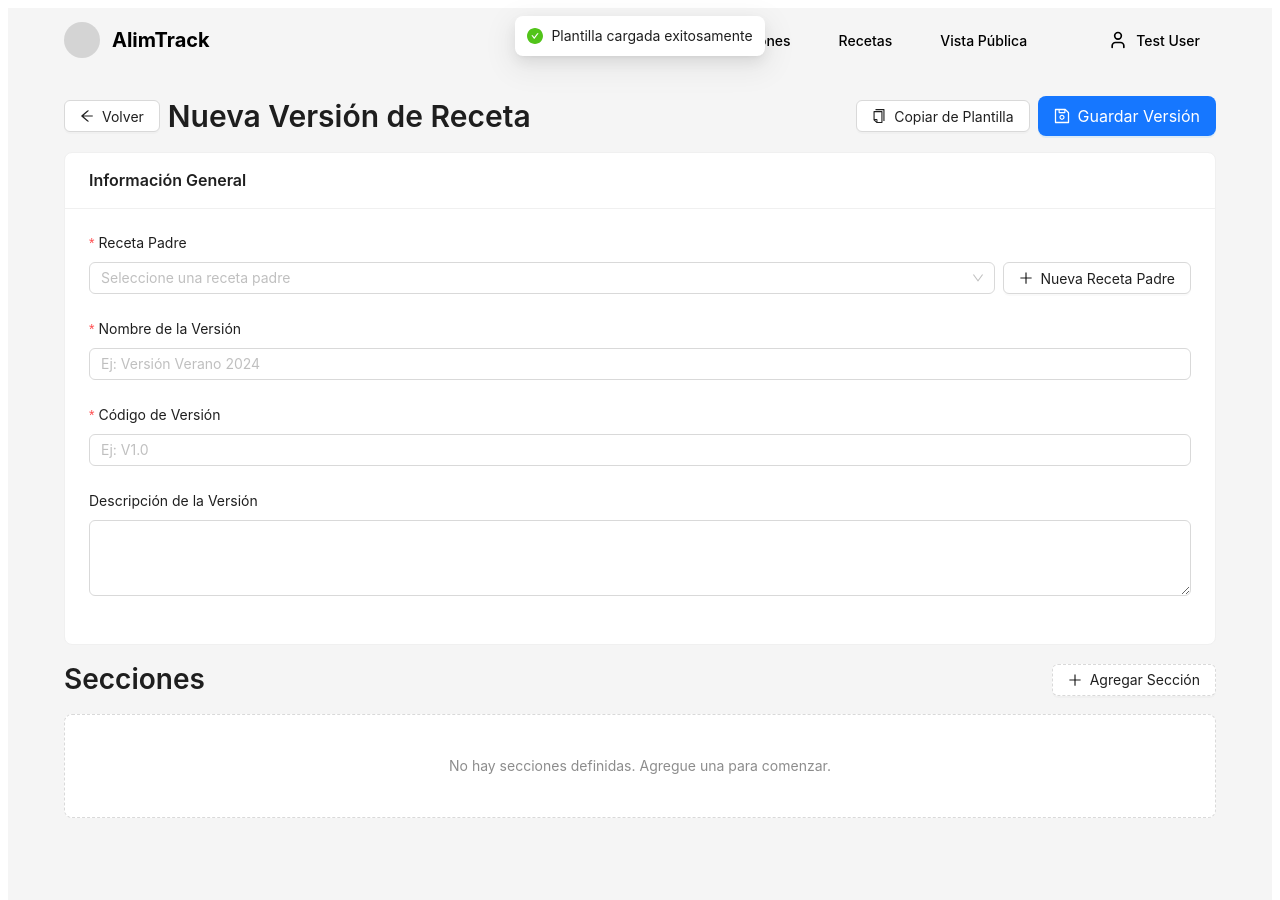
it: RecipeBuilderPage - Integración y Flujos › Permite duplicar una sección
// Agregar una sección
Click the button "Agregar Sección": [1134, 680] box [1052,664,1216,696]
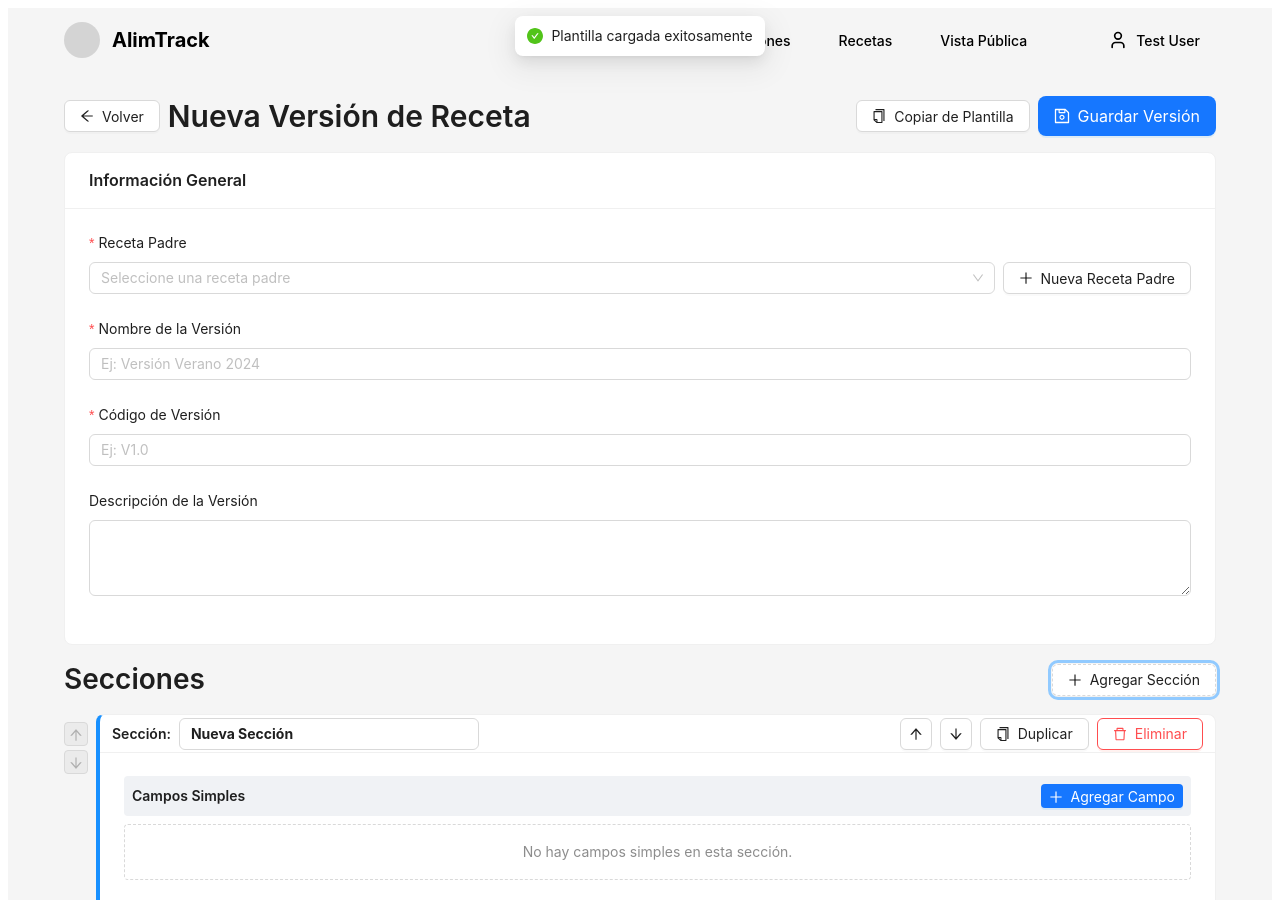
// Escribir nombre en la sección
Replace the text in the field with placeholder "Ingrese el título de la sección" with "Sección Original": [329, 734] box [179,718,479,750]
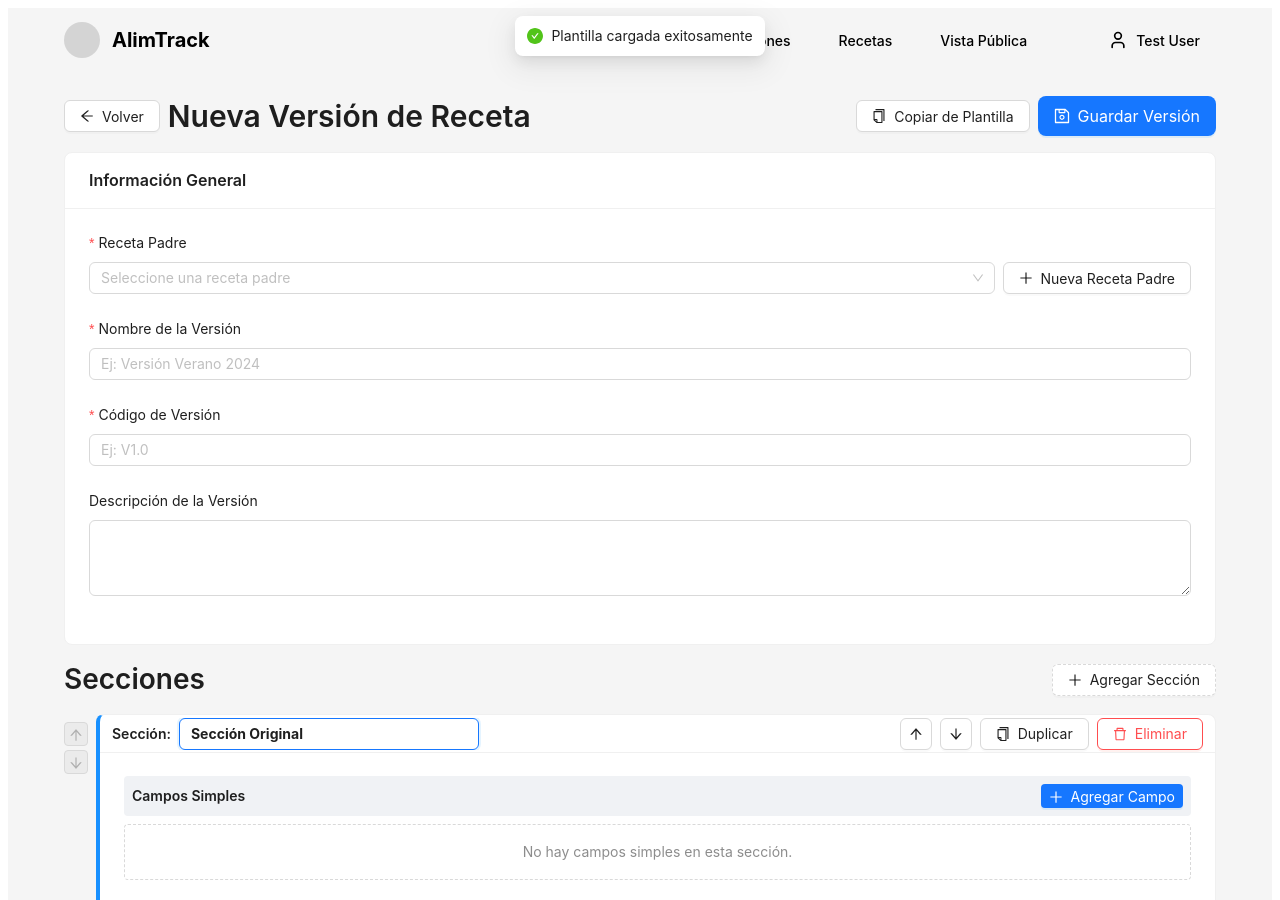
Click the button "Duplicar": [1034, 734] box [980,718,1089,750]
(page scrolled)
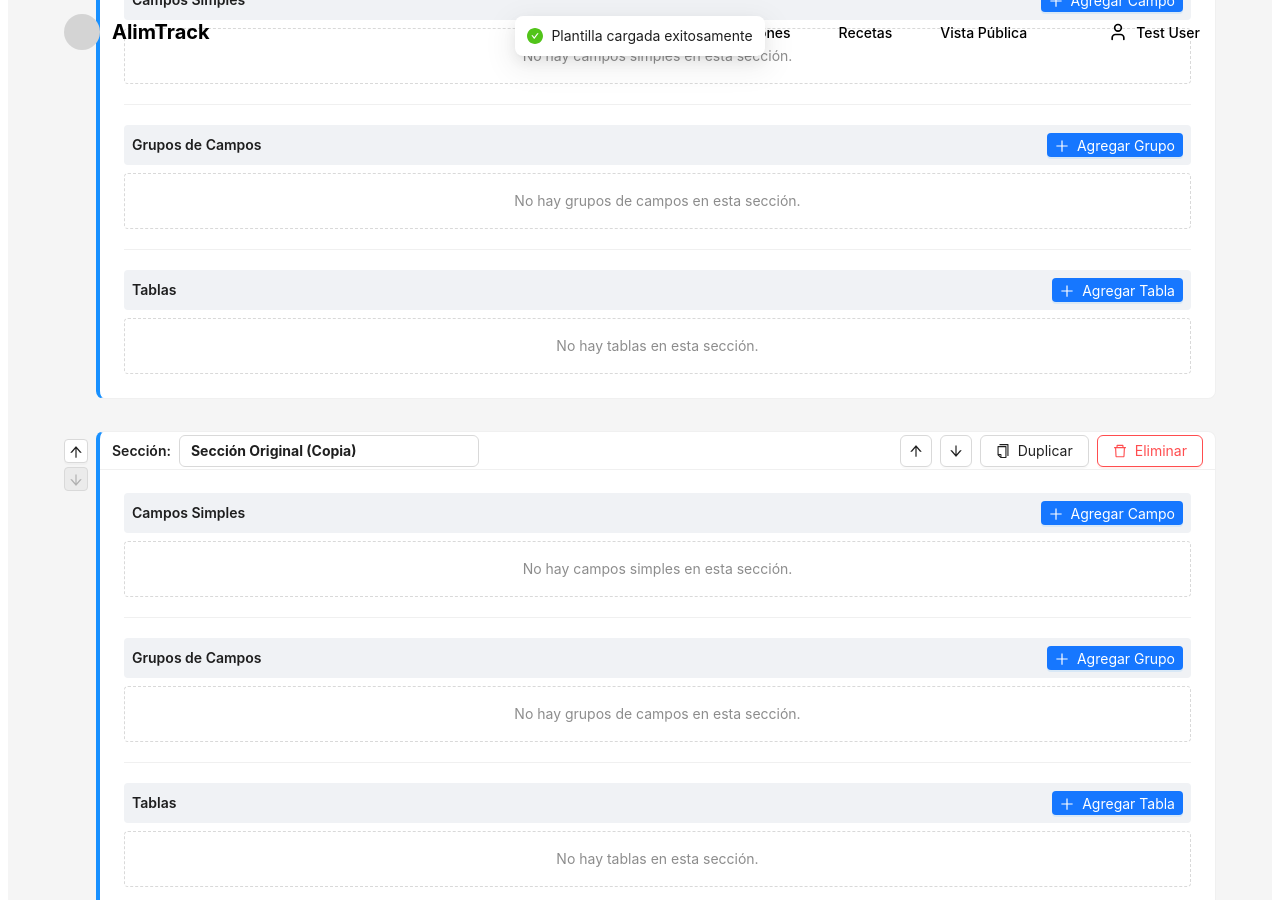
Check: the field showing "Sección Original (Copia)" is shown, box [179,435,479,467]
